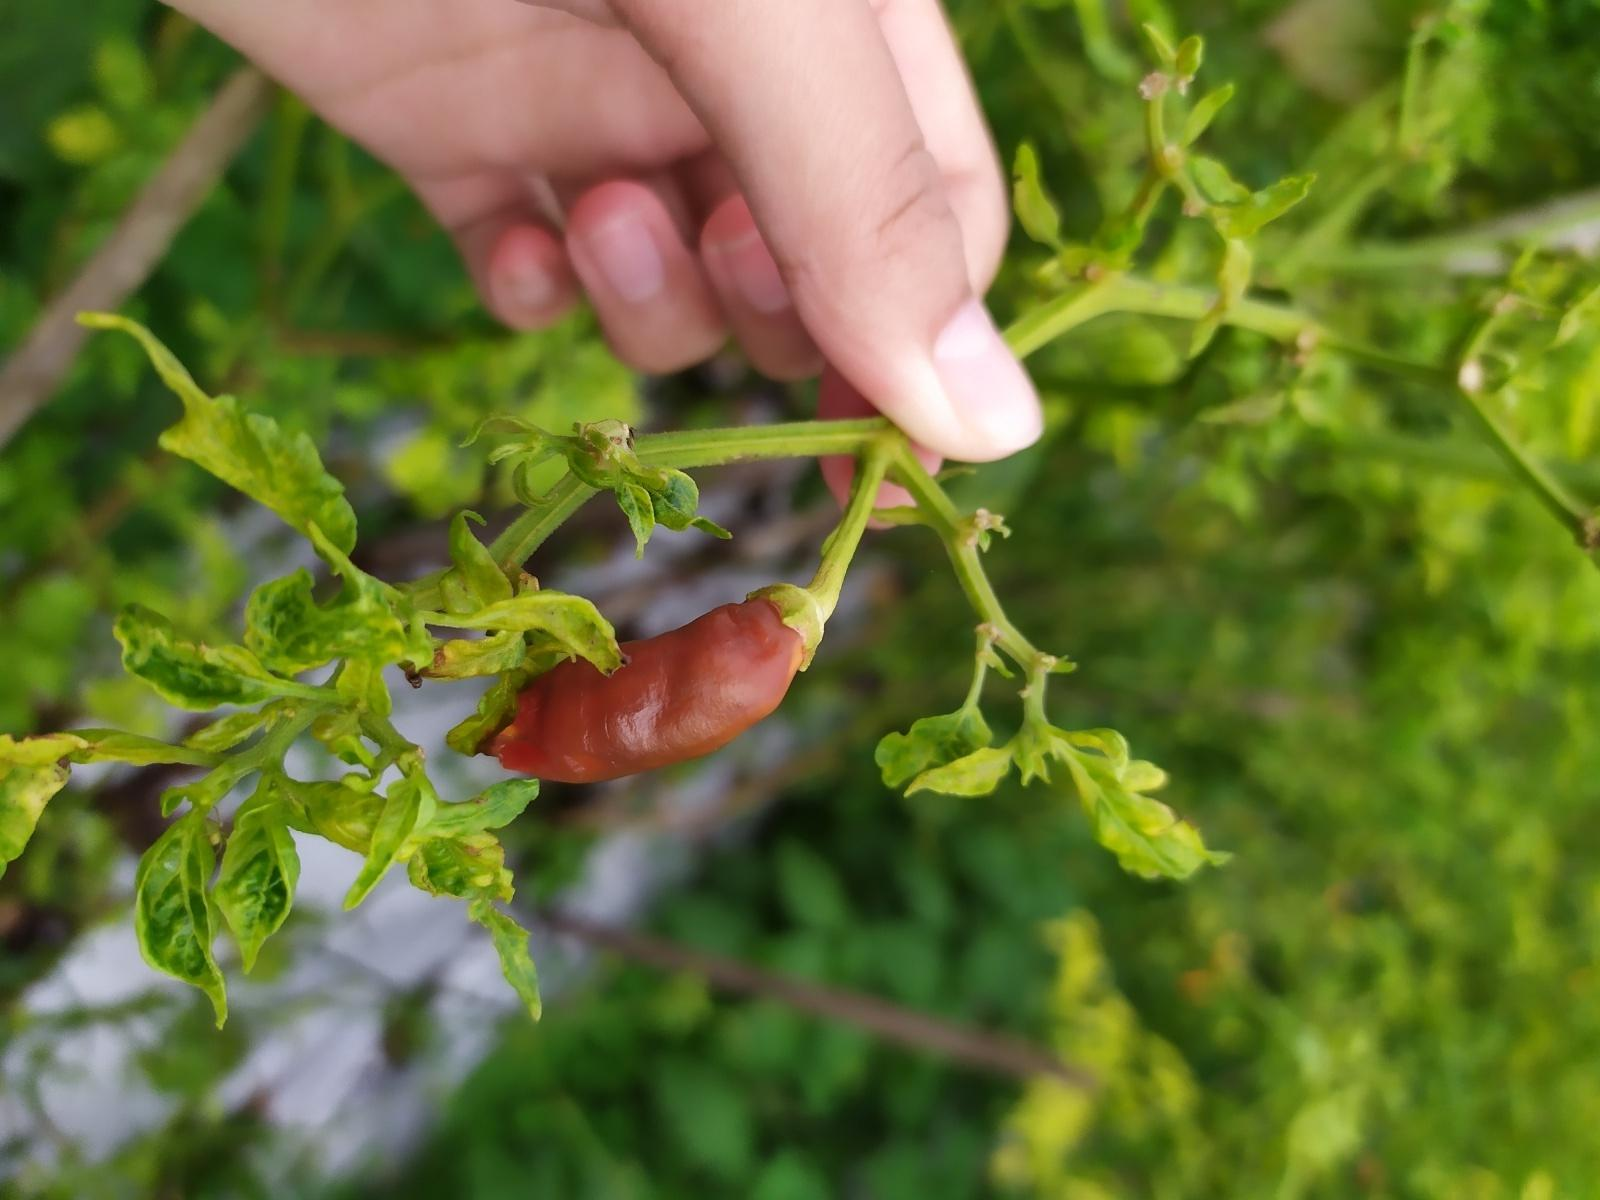lalat_buah: (474, 597, 806, 785)
